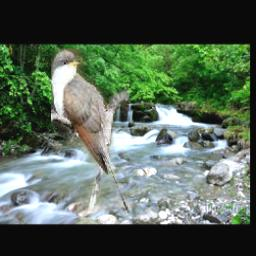Cuckoo: (51, 49, 129, 214)
